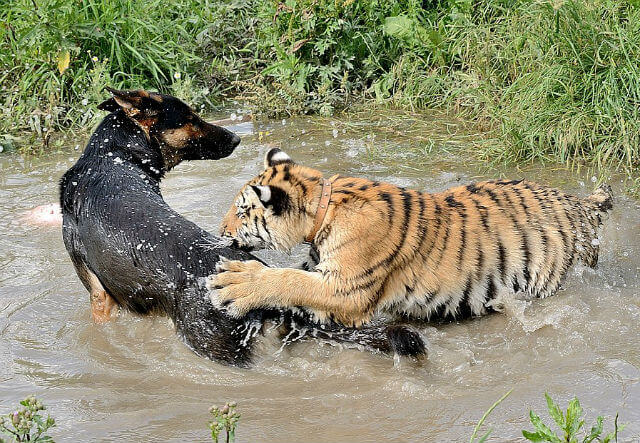dog: (57, 90, 430, 361)
tiger: (218, 148, 615, 321)
